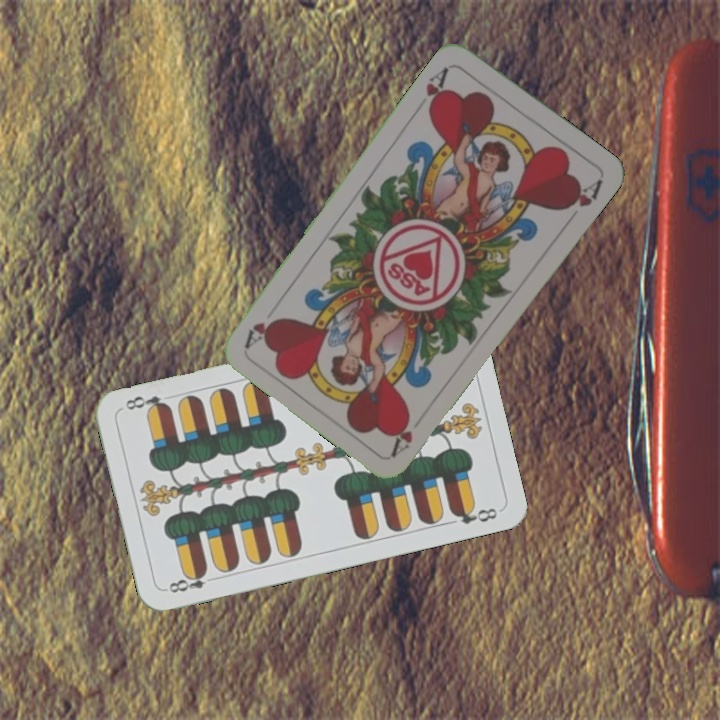E8: (161, 566, 210, 596)
HA: (421, 62, 452, 116), (387, 410, 416, 458)
